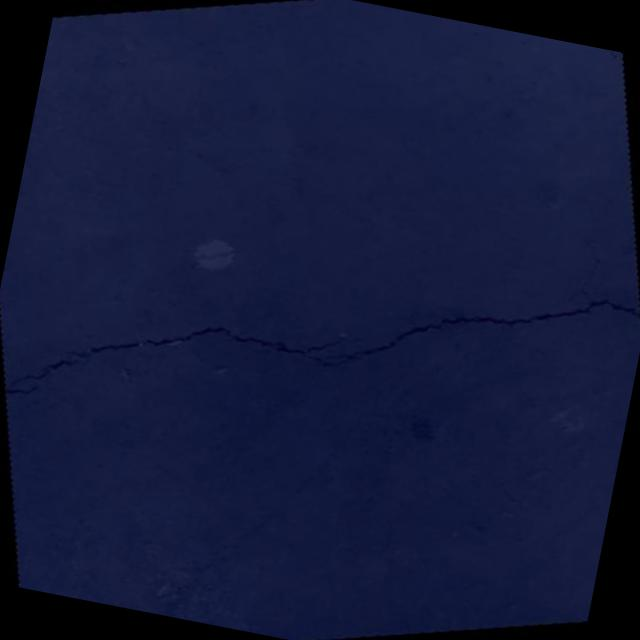crack: (43, 137, 640, 490), (0, 341, 95, 412)
